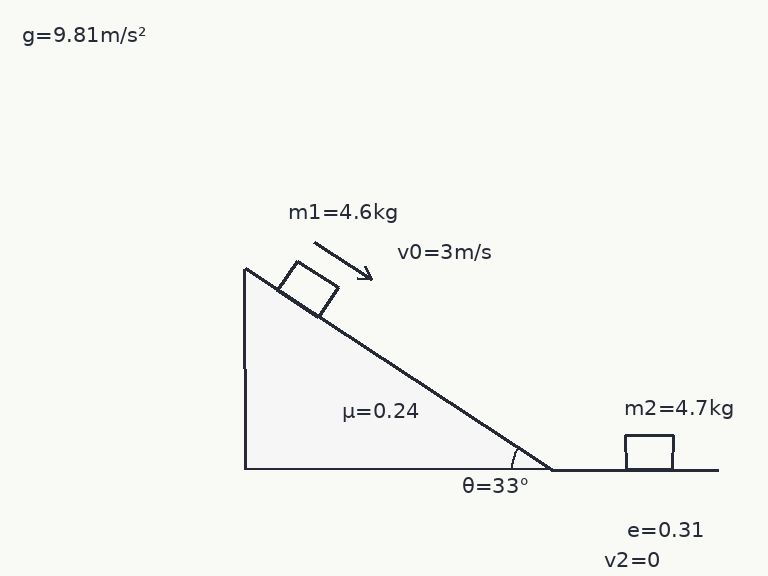block: (275, 259, 339, 319), (624, 433, 674, 471)
ramp: (242, 267, 554, 471)
